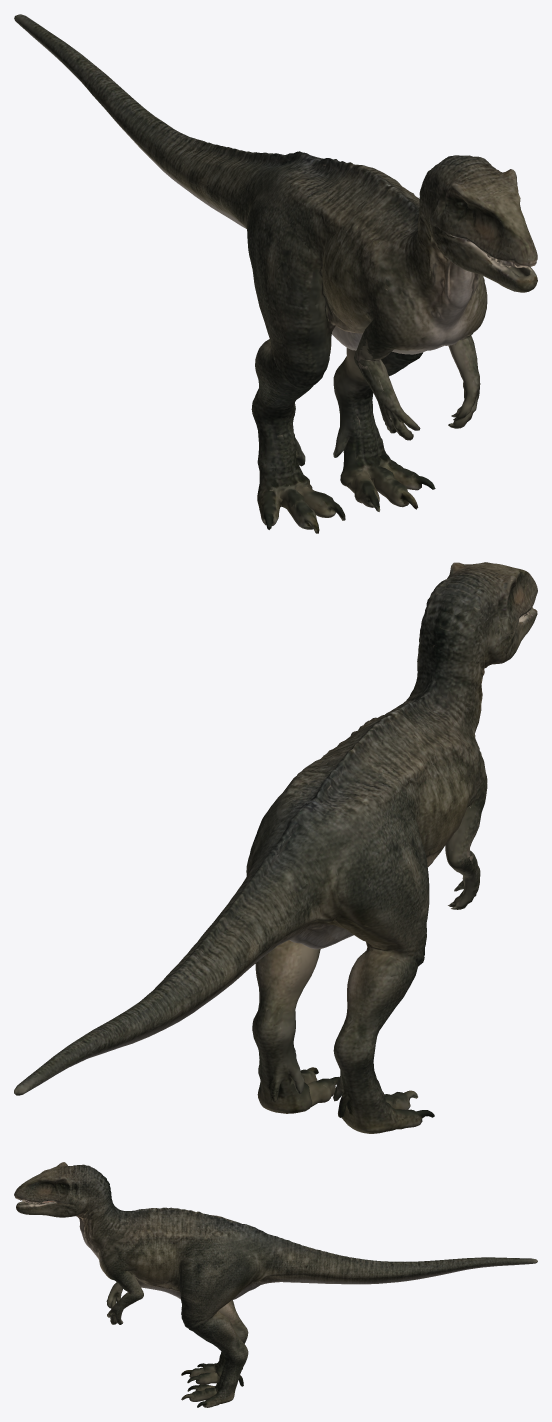
File: sanjuansaurus.glb
3 renders of one model, top to bottom at view 1: azimuth 30°, elevation 25°; view 2: azimuth 150°, elevation 25°; view 3: azimuth 270°, elevation 25°, orthographic. The views are drawn at different scales.
Visible parts, largest first — view 1: sanjuansaurus_medio; view 2: sanjuansaurus_medio; view 3: sanjuansaurus_medio.
Boxes of the visible parts, x1,y1,x2,y2 form: sanjuansaurus_medio: (14, 14, 537, 533); sanjuansaurus_medio: (14, 562, 537, 1133); sanjuansaurus_medio: (14, 1162, 537, 1407).
Bounding box in the file's own units: 0.5628 × 1.41 × 3.
Materials: 1 (1 with a texture image).
